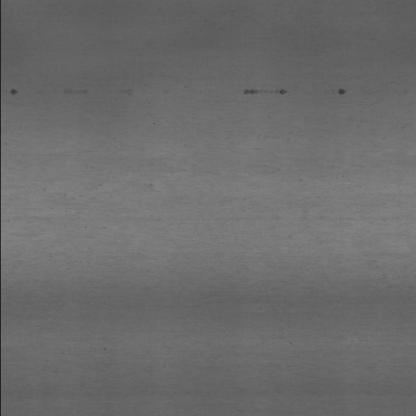oil_spot: (238, 86, 294, 97), (326, 89, 350, 96), (7, 87, 24, 95)
